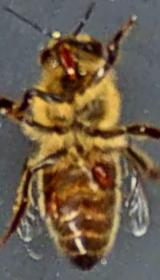varroa_mite: (86, 162, 115, 188)
